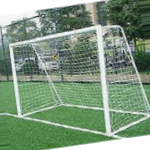goals: (8, 23, 150, 137)
